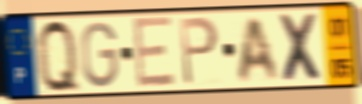A: (235, 15, 282, 85)
E: (130, 14, 178, 92)
G: (79, 19, 120, 90)
P: (177, 14, 221, 88)
Q: (34, 16, 84, 96)
X: (275, 11, 327, 84)
